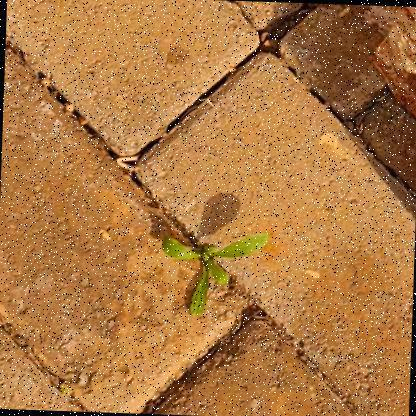Weeds: (159, 229, 270, 321)
